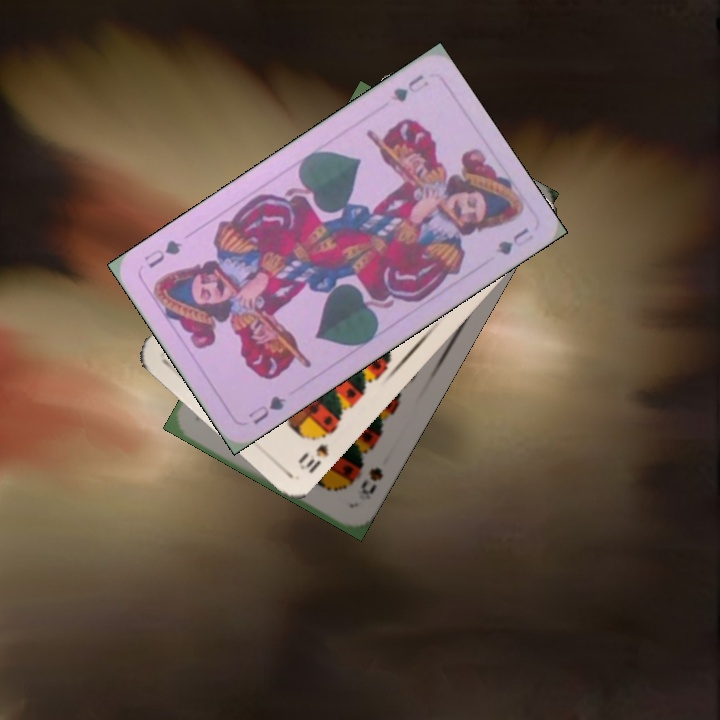GU: (244, 391, 289, 428), (387, 70, 432, 105)
S10: (293, 427, 336, 476)
S8: (353, 463, 386, 503)
